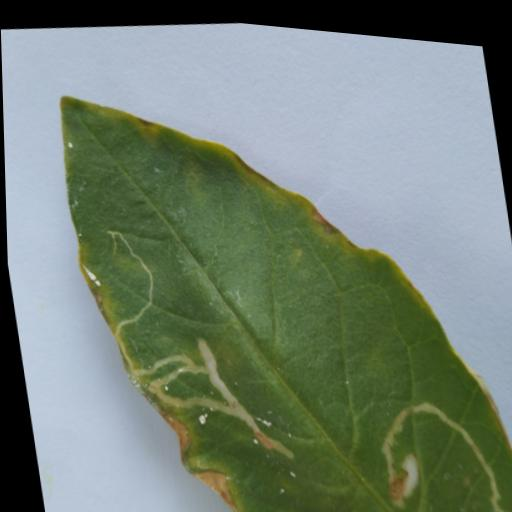Leaf_Miner: (51, 41, 512, 512)
